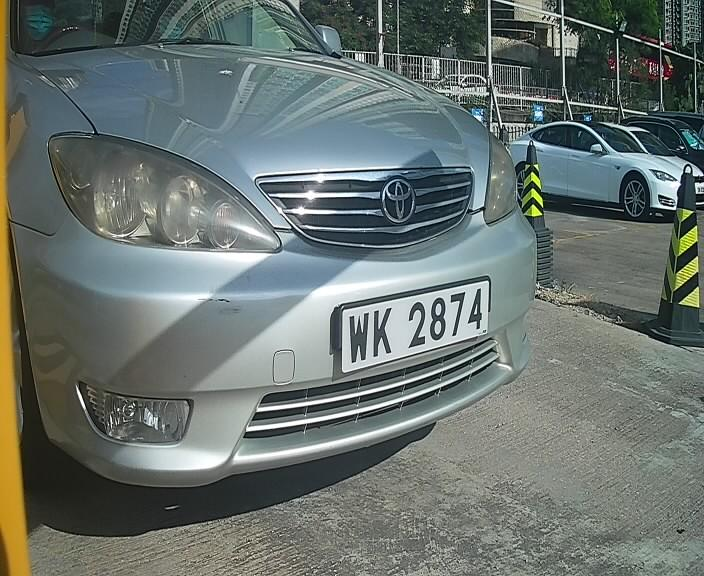License Plate: (318, 270, 494, 381)
